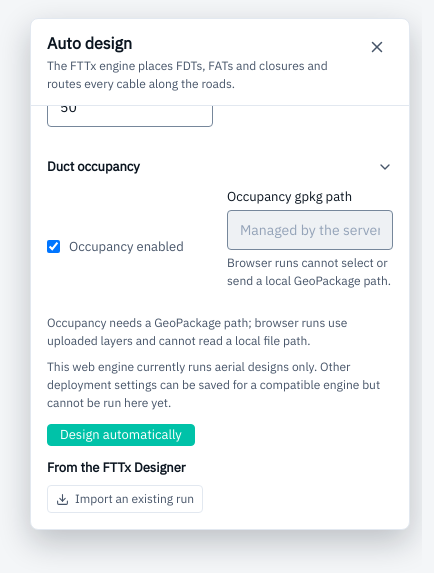
it: AutoDesignDrawer › runs straight away on an empty design, with the chosen settings
(page scrolled)
Click the button "Design automatically" at [121, 435], box [47,424,195,446]
(page scrolled)
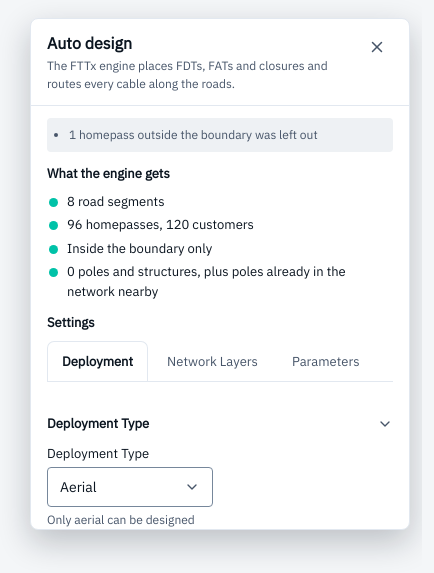
Expected: the list item "1 homepass outside the boundary was left out" is shown, [69,127,318,142]
